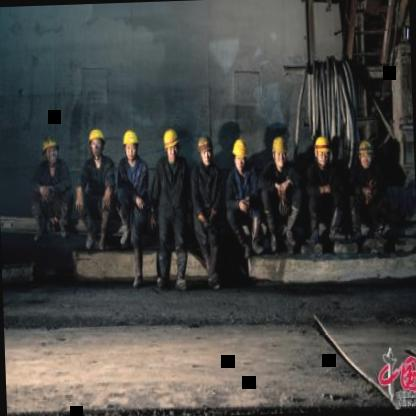helmet: (41, 130, 61, 172), (163, 124, 182, 167), (120, 127, 140, 167), (232, 136, 251, 178), (312, 132, 333, 170), (271, 133, 290, 173), (195, 134, 215, 170), (88, 126, 106, 164), (356, 136, 374, 174)
